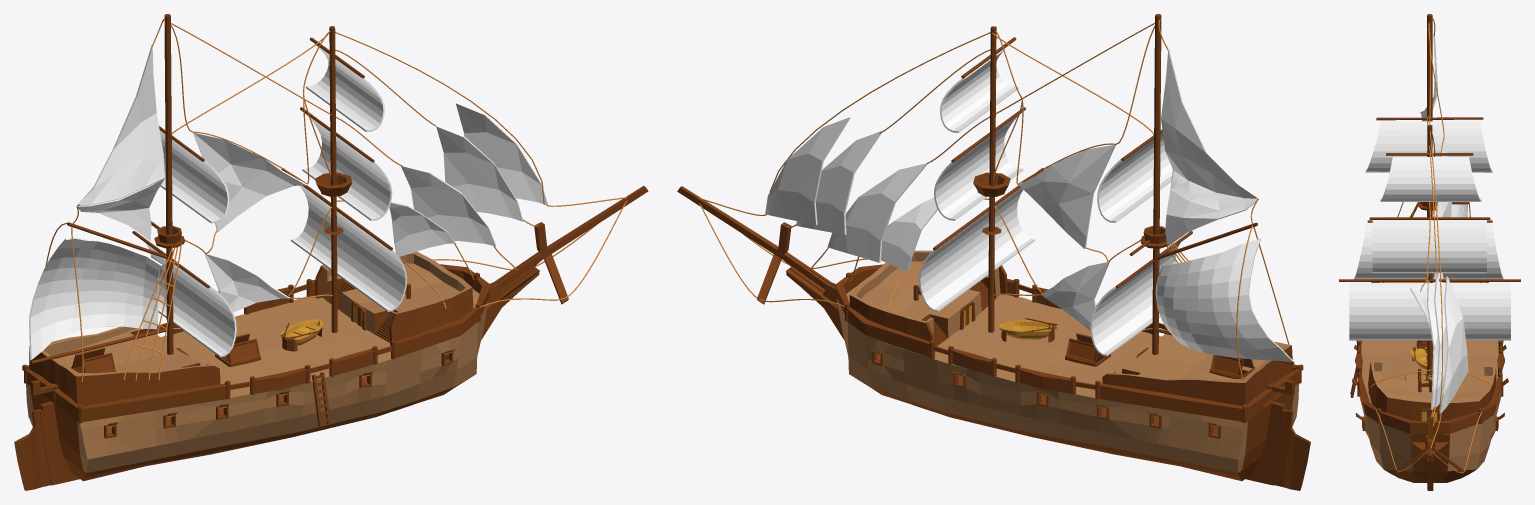
Rendered from ships_03_bergantine.fbx.
3 views of the same model, side by side, from view 1: azimuth 30°, elevation 25°; view 2: azimuth 150°, elevation 25°; view 3: azimuth 270°, elevation 25° (orthographic). The views are drawn at different scales.
Parts seen in each view (by area): view 1: Flags.008, Base.010, Rooms base.005, Rail.002, Quill.006, Ropes.004, Mast.010, Mast.009, Lower deck door.006, Boat.004; view 2: Flags.008, Base.010, Rooms base.005, Rail.002, Quill.006, Ropes.004, Mast.010, Mast.009, Lower deck door.006, Boat.004; view 3: Flags.008, Base.010, Rooms base.005, Rail.002, Ropes.004, Mast.009, Mast.010, Quill.006, Boat.004, Crew door.007.
Part boxes in pixels (x1,y1,x2,y2): Flags.008: [29, 44, 547, 360]; Base.010: [26, 288, 488, 481]; Rooms base.005: [29, 251, 473, 406]; Rail.002: [22, 264, 490, 423]; Quill.006: [14, 185, 648, 490]; Ropes.004: [45, 18, 627, 381]; Mast.010: [30, 14, 209, 364]; Mast.009: [281, 26, 392, 332]; Lower deck door.006: [71, 333, 260, 373]; Boat.004: [280, 319, 323, 345]; Flags.008: [765, 45, 1293, 361]; Base.010: [837, 286, 1299, 481]; Rooms base.005: [849, 250, 1293, 405]; Rail.002: [835, 264, 1303, 422]; Quill.006: [677, 186, 1310, 490]; Ropes.004: [698, 19, 1289, 380]; Mast.010: [1115, 14, 1294, 364]; Mast.009: [933, 26, 1044, 332]; Lower deck door.006: [1065, 333, 1255, 378]; Boat.004: [997, 320, 1052, 339]; Flags.008: [1349, 34, 1510, 413]; Base.010: [1352, 340, 1508, 482]; Rooms base.005: [1368, 282, 1496, 420]; Rail.002: [1355, 282, 1504, 433]; Ropes.004: [1371, 18, 1489, 473]; Mast.009: [1339, 125, 1520, 373]; Mast.010: [1367, 14, 1492, 282]; Quill.006: [1395, 417, 1465, 490]; Boat.004: [1410, 347, 1432, 369]; Crew door.007: [1418, 374, 1439, 420].
Size of the model in its own units: 9204 by 6140 by 2741.
